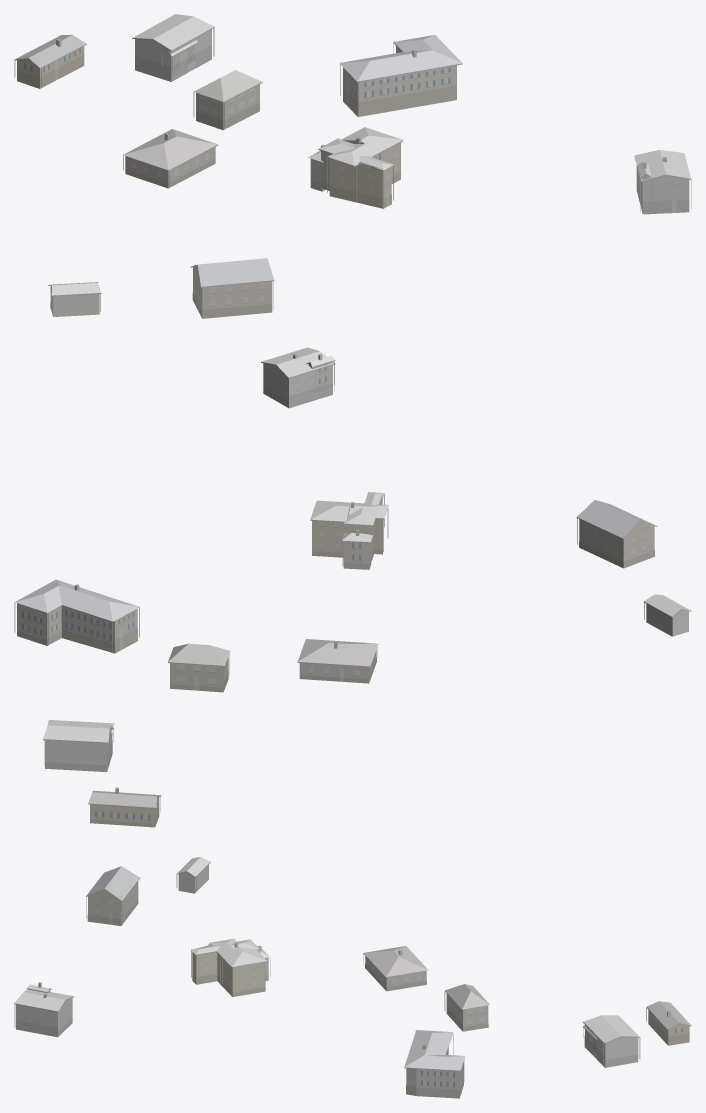
3 views of the same model, one above another, from view 1: azimuth 30°, elevation 25°; view 2: azimuth 150°, elevation 25°; view 3: azimuth 270°, elevation 25° (orthographic). The views are drawn at different scales.
Visible parts, largest first — view 1: bld; view 2: bld; view 3: bld.
Part boxes in pixels (x1,y1,x2,y2): bld: [14, 14, 691, 318]; bld: [14, 347, 691, 827]; bld: [14, 857, 691, 1098].
Bounding box in the file's own units: 124 × 33.65 × 167.
